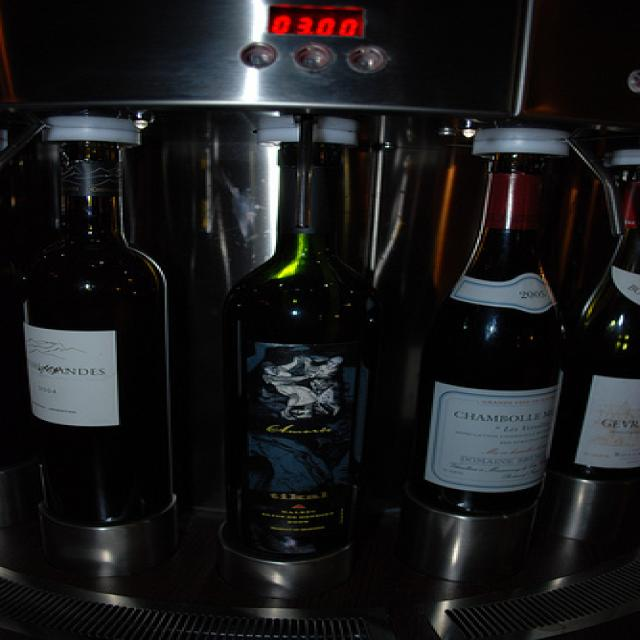Bottle: (156, 99, 385, 539), (18, 103, 185, 495), (416, 122, 565, 458), (560, 87, 640, 532)
